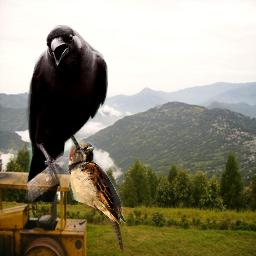Crow: (25, 25, 108, 202)
Swallow: (67, 142, 125, 253)
